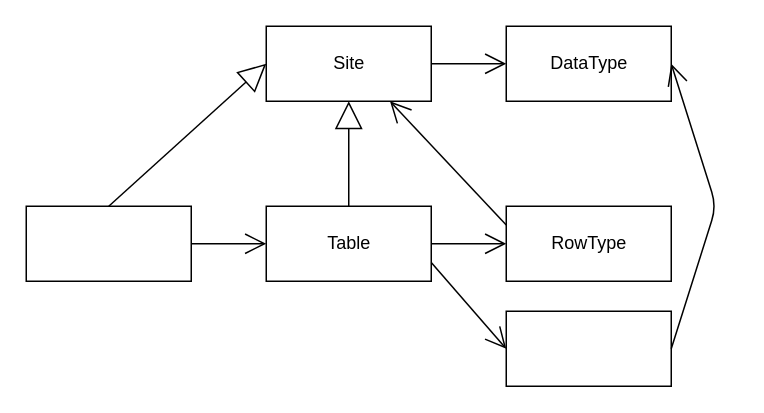
The diagram is 764 pixels wide and 413 high, and some of its shapes have lost their labels. Here are the shapes that lost their labels. From the top down, the box of each, then its label:
(25, 205, 191, 281): BaseTable
(505, 310, 671, 386): Field
